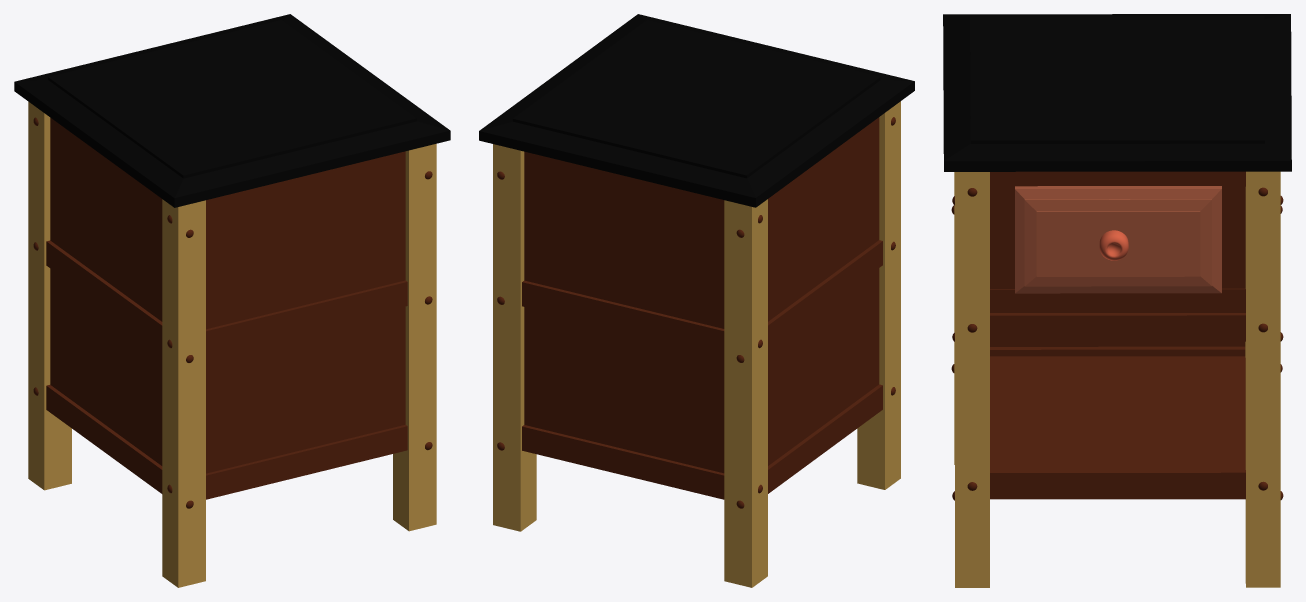
The model's file is laci.fbx.
3 renders of one model, left to right at view 1: azimuth 30°, elevation 25°; view 2: azimuth 150°, elevation 25°; view 3: azimuth 270°, elevation 25°, orthographic. The views are drawn at different scales.
Parts seen in each view (by area): view 1: Side walls.001, Drawer top.001, Leg.001, Truss .001, Nut.001; view 2: Side walls.001, Drawer top.001, Leg.001, Truss .001, Nut.001; view 3: Drawer top.001, Leg.001, Base 2.001, Door.001, Truss .001, truss 2.001, truss 3.001, Side walls.001, Knob.001, Nut.001.
Part boxes in pixels (<box>): Side walls.001: <box>50,118,405,473</box>; Drawer top.001: <box>14,14,450,207</box>; Leg.001: <box>28,101,436,587</box>; Truss .001: <box>46,240,407,499</box>; Nut.001: <box>33,117,432,508</box>; Side walls.001: <box>524,117,879,473</box>; Drawer top.001: <box>479,14,914,207</box>; Leg.001: <box>493,101,900,587</box>; Truss .001: <box>522,240,882,499</box>; Nut.001: <box>497,117,895,508</box>; Drawer top.001: <box>943,14,1291,171</box>; Leg.001: <box>954,171,1280,587</box>; Base 2.001: <box>990,356,1245,460</box>; Door.001: <box>1015,186,1221,293</box>; Truss .001: <box>990,313,1245,499</box>; truss 2.001: <box>990,171,1245,312</box>; truss 3.001: <box>990,186,1245,288</box>; Side walls.001: <box>990,341,1245,346</box>; Knob.001: <box>1099,230,1128,260</box>; Nut.001: <box>951,187,1283,500</box>.
Bounding box in the file's own units: 62.4 × 84.71 × 60.76.
